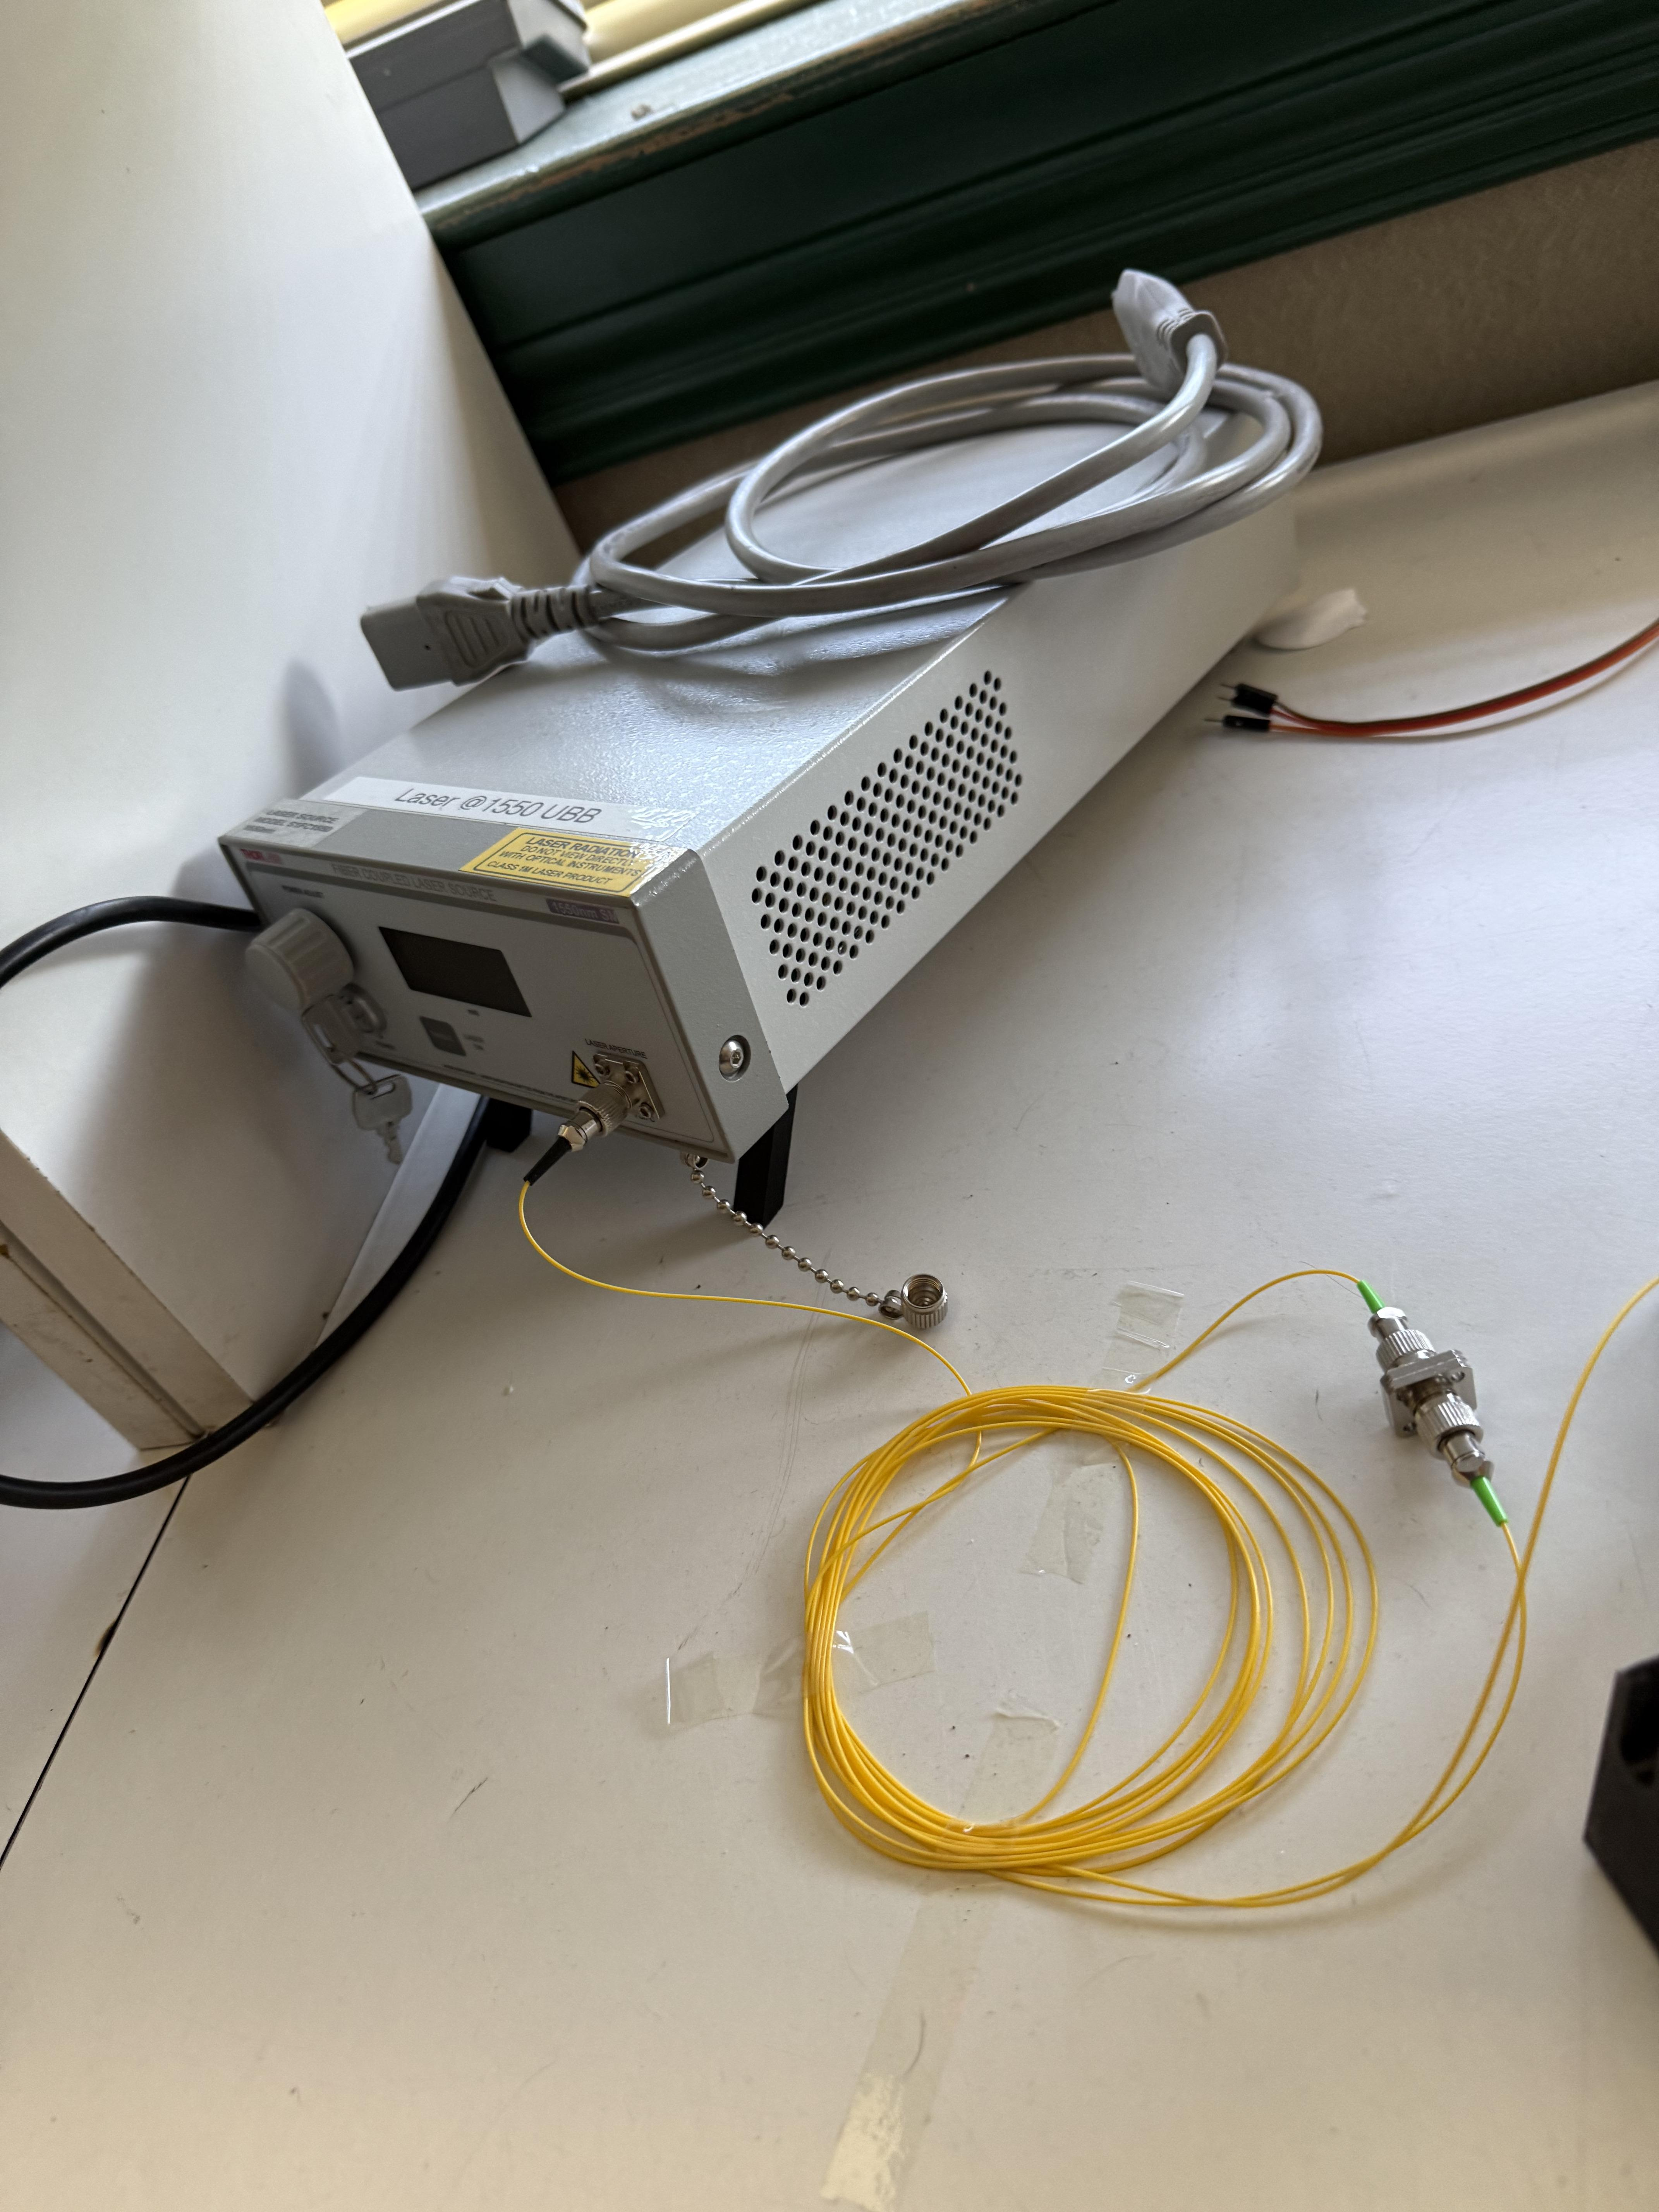laser: (197, 360, 1390, 1259)
